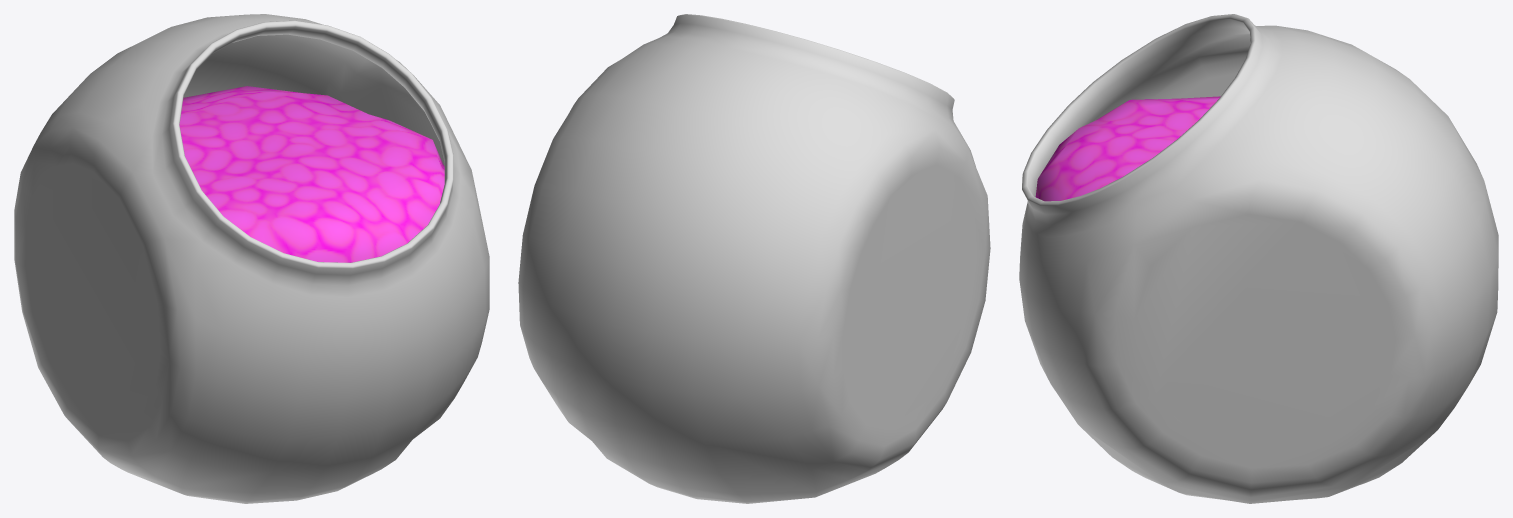
File: BuffetCandy02_6.FBX
3 views of the same model, side by side, from view 1: azimuth 30°, elevation 25°; view 2: azimuth 150°, elevation 25°; view 3: azimuth 270°, elevation 25° (orthographic). The views are drawn at different scales.
Parts seen in each view (by area): view 1: BuffetCandy02_6; view 2: BuffetCandy02_6; view 3: BuffetCandy02_6.
Part boxes in pixels (x1=…): BuffetCandy02_6: x1=14, y1=14, x2=489, y2=503; BuffetCandy02_6: x1=518, y1=14, x2=990, y2=503; BuffetCandy02_6: x1=1019, y1=14, x2=1498, y2=503.
Size of what is drawn, in the model's own units: 0.2283 by 0.2923 by 0.3064.
